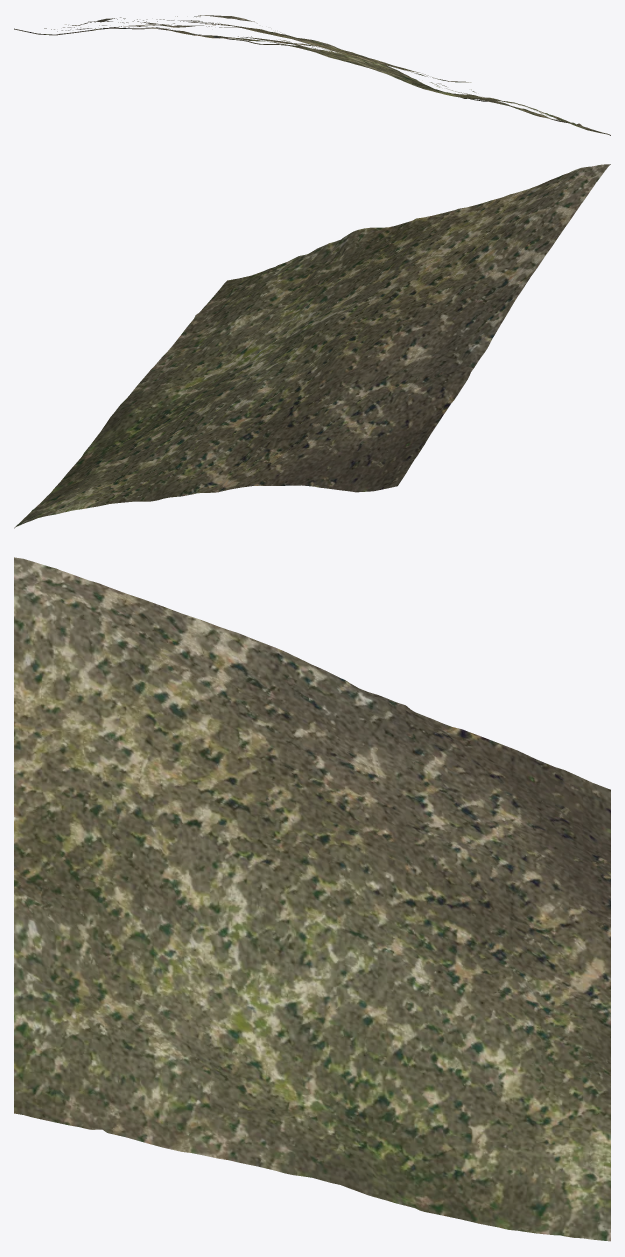
3 views of the same model, one above another, from view 1: azimuth 30°, elevation 25°; view 2: azimuth 150°, elevation 25°; view 3: azimuth 270°, elevation 25° (orthographic). The views are drawn at different scales.
Bounding box in the file's own units: 500 × 376 × 481.
Materials: 1 (1 with a texture image).
